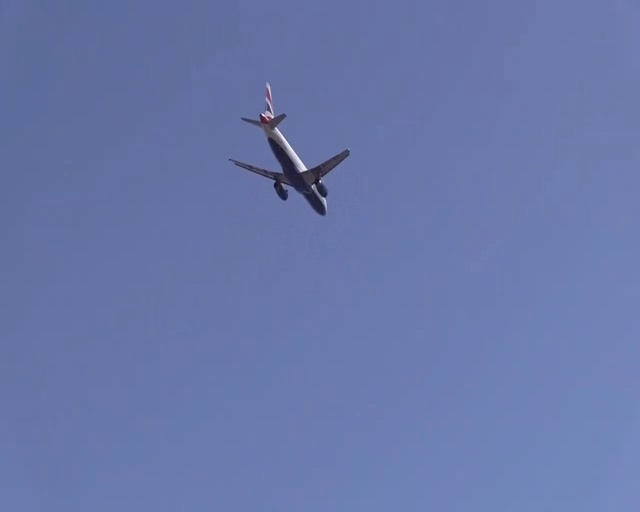AIRPLANE: (227, 81, 349, 216)
